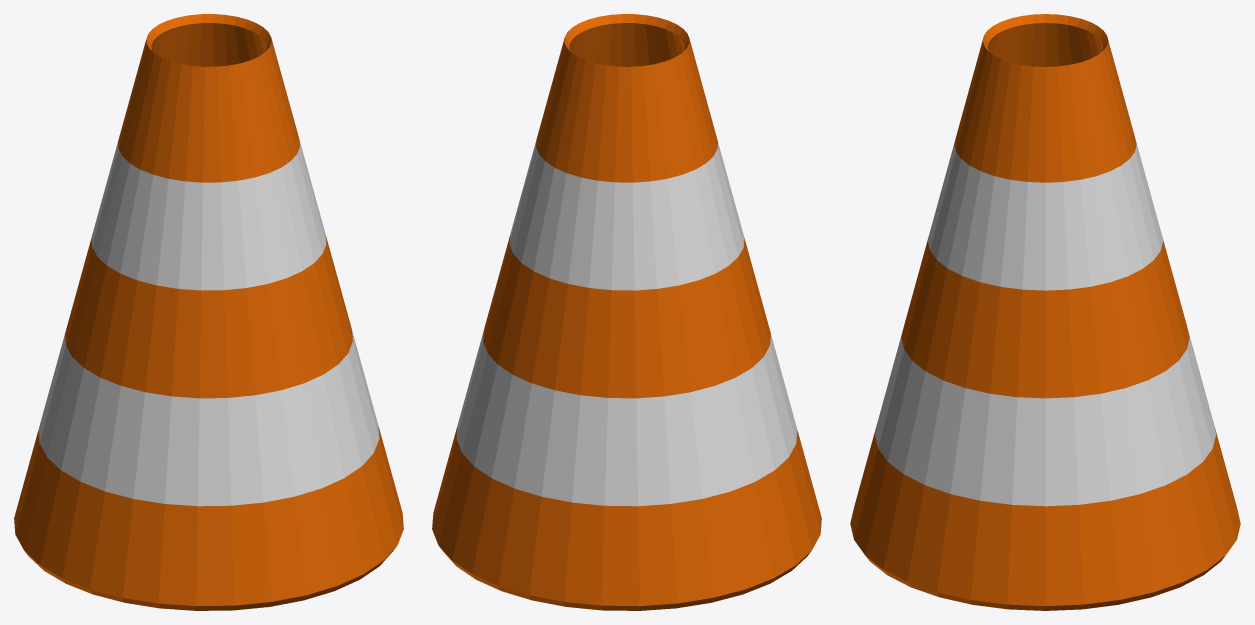
Rendered from Traffic Cone.fbx.
The picture shows the model from 3 angles, left to right: view 1: azimuth 30°, elevation 25°; view 2: azimuth 150°, elevation 25°; view 3: azimuth 270°, elevation 25°; orthographic projection.
Parts seen in each view (by area): view 1: Traffic Cone; view 2: Traffic Cone; view 3: Traffic Cone.
Part boxes in pixels (left/top/right/bottom): Traffic Cone: left=14, top=14, right=403, bottom=610; Traffic Cone: left=432, top=14, right=821, bottom=610; Traffic Cone: left=850, top=14, right=1240, bottom=610.
Bounding box in the file's own units: 11.7 × 16.2 × 11.7.
